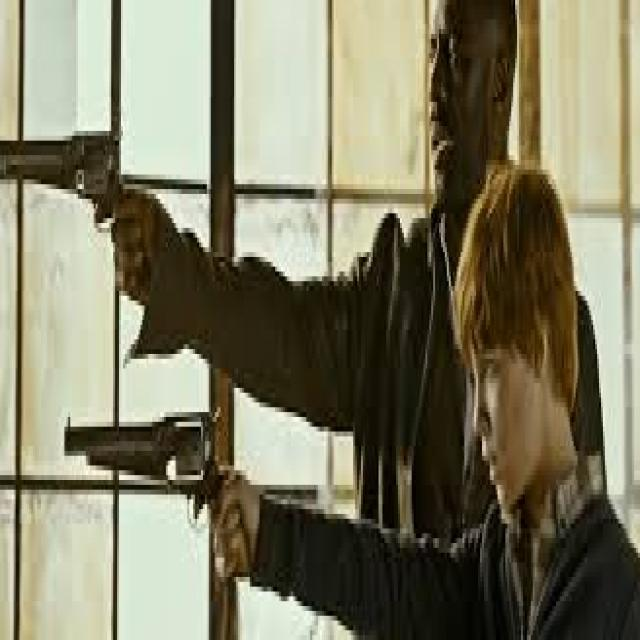gun: (51, 369, 257, 586), (0, 92, 150, 281)
